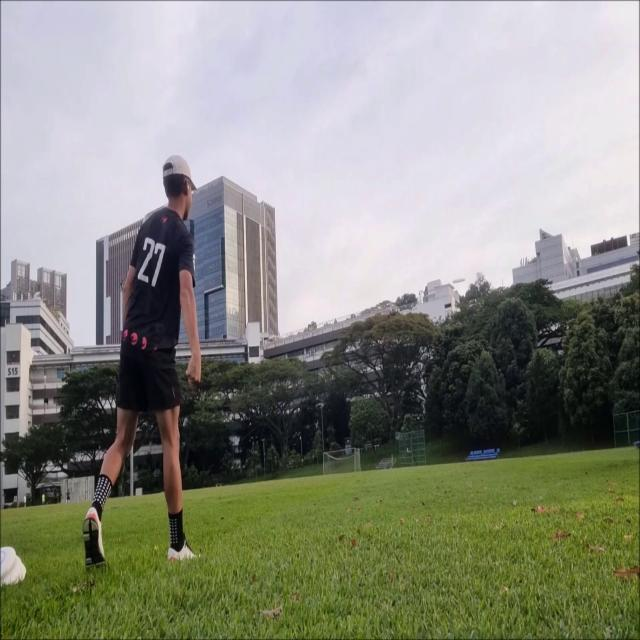disc: (451, 278, 466, 284)
